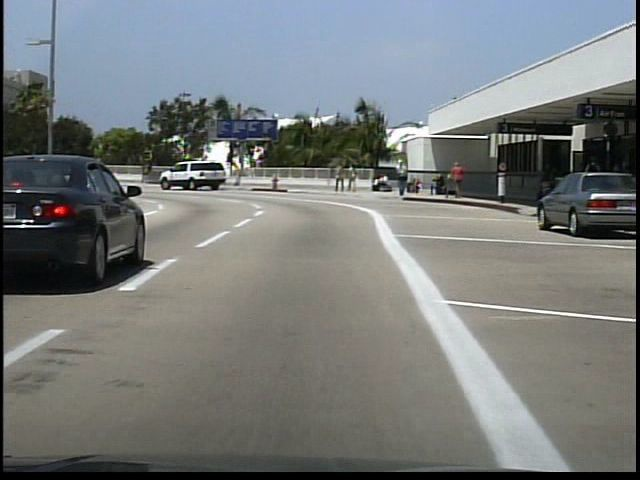person: (580, 153, 605, 216), (394, 158, 409, 201), (452, 160, 468, 198), (336, 162, 348, 195), (372, 173, 390, 194), (348, 162, 359, 196)
